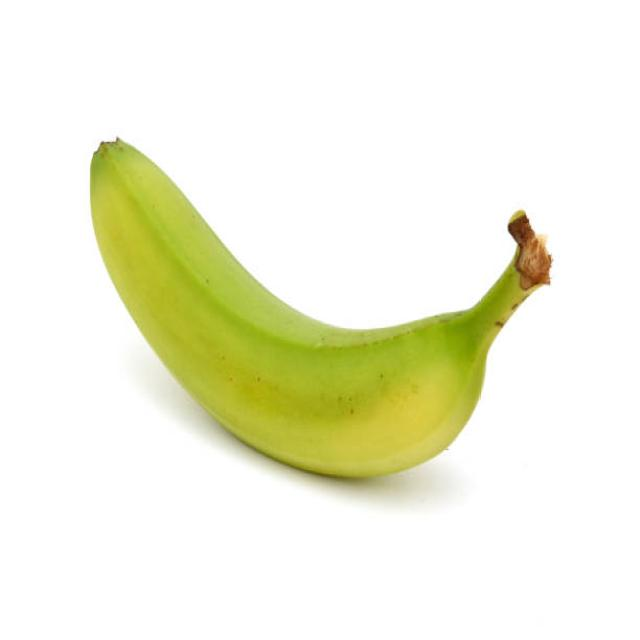banana: (88, 138, 553, 478)
